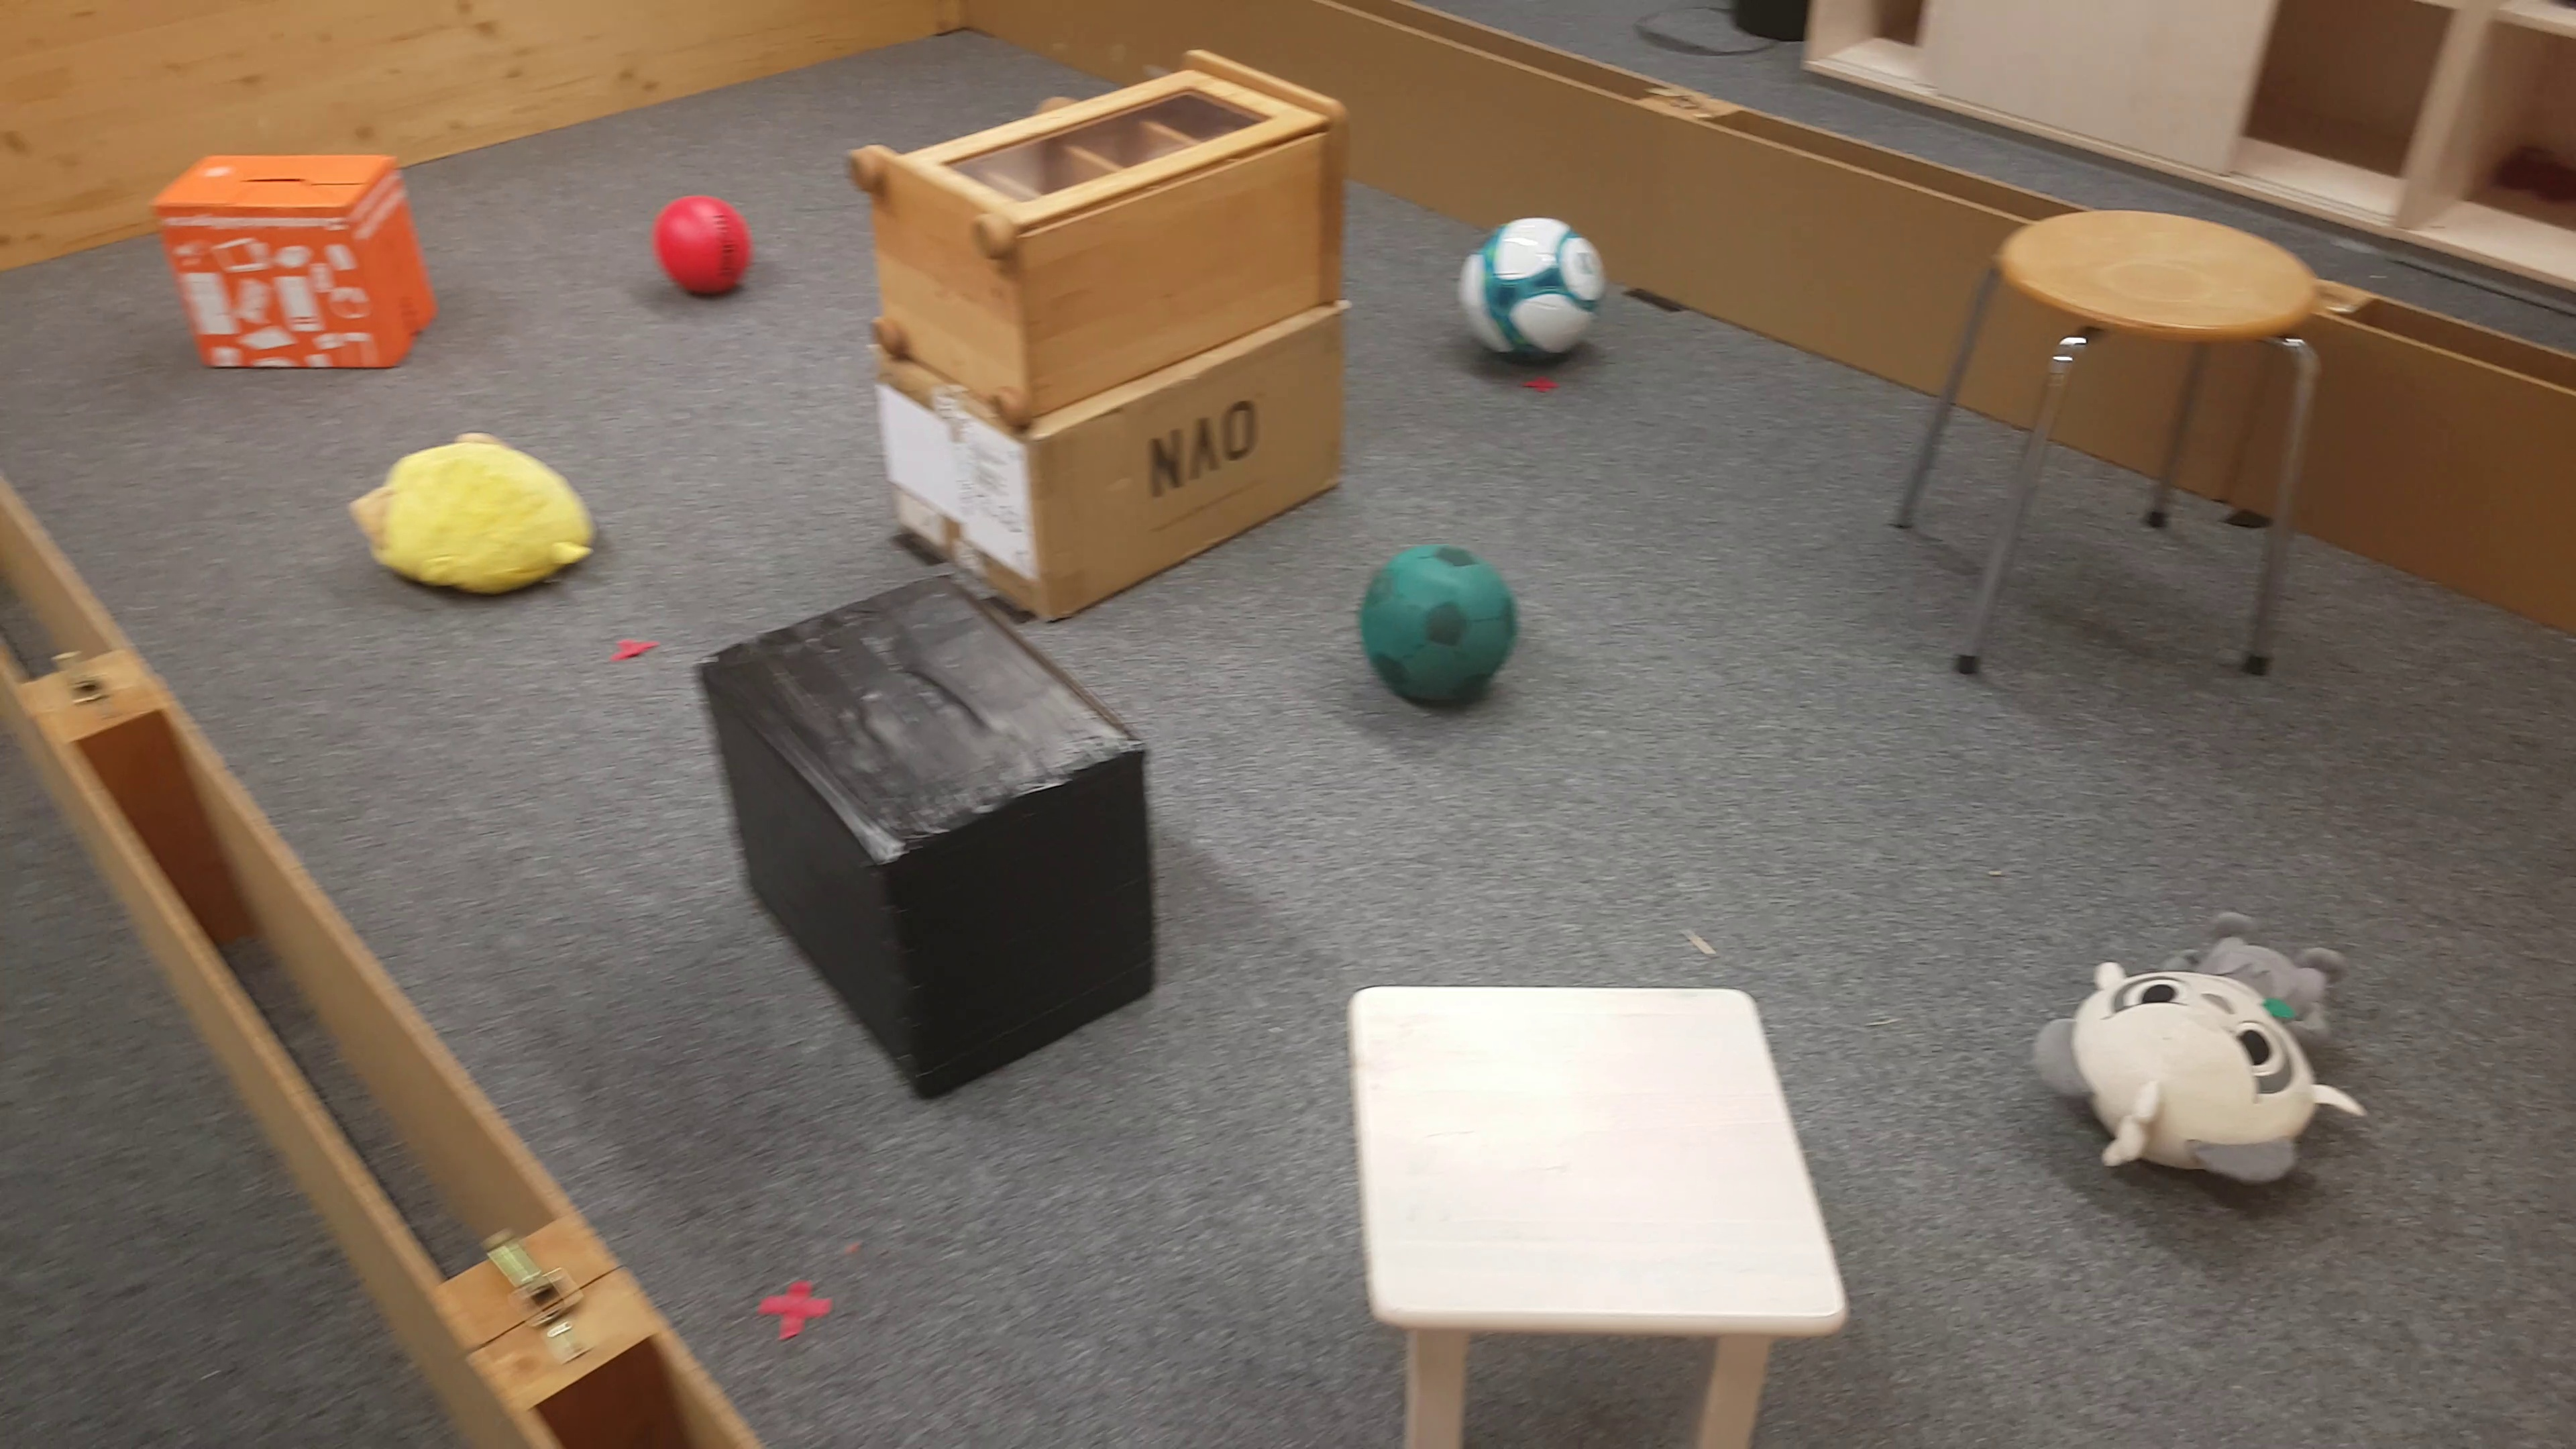grasp: (2038, 908, 2367, 1200), (356, 428, 600, 605)
kick: (1350, 541, 1523, 704), (1458, 211, 1615, 366), (656, 193, 757, 295)
push: (699, 577, 1168, 1097), (152, 152, 435, 384)
